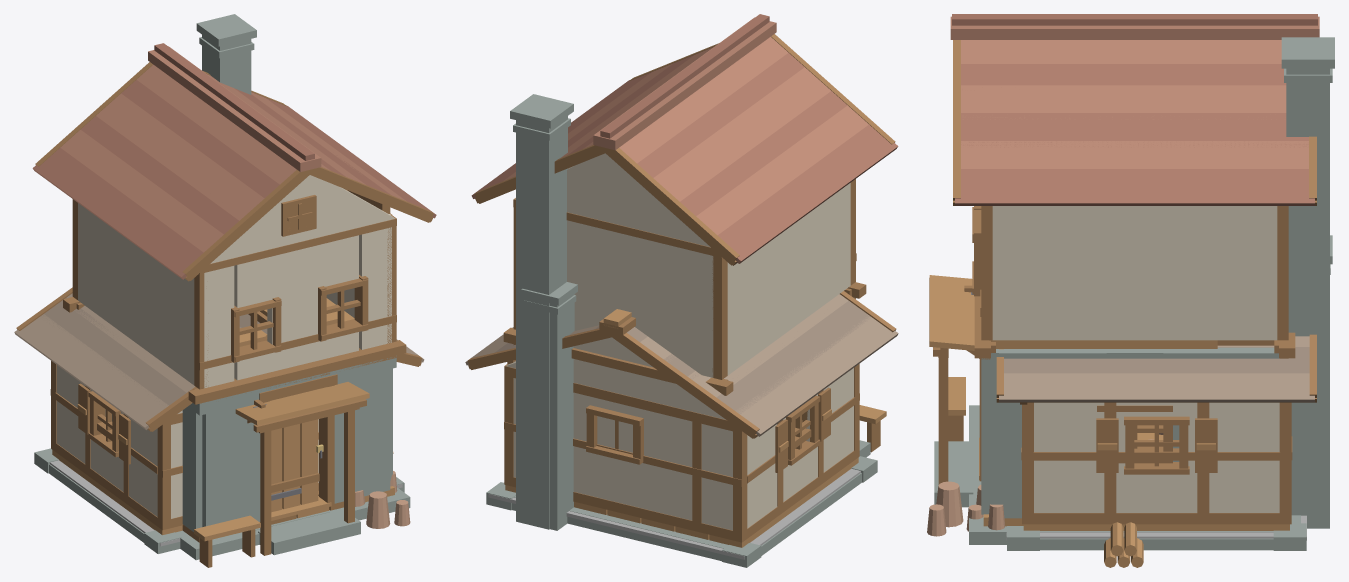
File: house-upgrades.glb
3 views of the same model, side by side, from view 1: azimuth 30°, elevation 25°; view 2: azimuth 150°, elevation 25°; view 3: azimuth 270°, elevation 25° (orthographic). The views are drawn at different scales.
Visible parts, largest first — view 1: HU_TEMP_townhouse_complete_body, HU_TEMP_townhouse_complete_roof, HU_TEMP_cottage_complete_body, HU_TEMP_cottage_complete_roof, HU_TEMP_townhouse_complete_frame, HU_TEMP_cottage_complete_frame, HU_TEMP_townhouse_complete_foundation, HU_TEMP_cottage_complete_foundation, HU_TEMP_townhouse_complete_body_door; view 2: HU_TEMP_townhouse_complete_roof, HU_TEMP_townhouse_complete_body, HU_TEMP_cottage_complete_roof, HU_TEMP_cottage_complete_body, HU_TEMP_cottage_complete_foundation, HU_TEMP_cottage_complete_frame, HU_TEMP_townhouse_complete_frame, HU_TEMP_townhouse_complete_foundation; view 3: HU_TEMP_townhouse_complete_roof, HU_TEMP_townhouse_complete_body, HU_TEMP_cottage_complete_body, HU_TEMP_cottage_complete_roof, HU_TEMP_cottage_complete_frame, HU_TEMP_cottage_complete_foundation, HU_TEMP_townhouse_complete_frame, HU_TEMP_townhouse_complete_foundation.
Part boxes in pixels (x1,y1,x2,y2): HU_TEMP_townhouse_complete_body: [78, 190, 410, 531]; HU_TEMP_townhouse_complete_roof: [32, 14, 436, 281]; HU_TEMP_cottage_complete_body: [51, 365, 397, 567]; HU_TEMP_cottage_complete_roof: [14, 287, 424, 431]; HU_TEMP_townhouse_complete_frame: [63, 189, 406, 404]; HU_TEMP_cottage_complete_frame: [50, 361, 359, 555]; HU_TEMP_townhouse_complete_foundation: [175, 486, 410, 560]; HU_TEMP_cottage_complete_foundation: [34, 448, 404, 553]; HU_TEMP_townhouse_complete_body_door: [271, 419, 323, 512]; HU_TEMP_townhouse_complete_roof: [471, 14, 898, 529]; HU_TEMP_townhouse_complete_body: [567, 183, 855, 464]; HU_TEMP_cottage_complete_roof: [465, 282, 898, 530]; HU_TEMP_cottage_complete_body: [504, 360, 886, 542]; HU_TEMP_cottage_complete_foundation: [486, 456, 877, 567]; HU_TEMP_cottage_complete_frame: [504, 364, 859, 532]; HU_TEMP_townhouse_complete_frame: [503, 168, 866, 395]; HU_TEMP_townhouse_complete_foundation: [514, 440, 870, 548]; HU_TEMP_townhouse_complete_roof: [950, 14, 1334, 528]; HU_TEMP_townhouse_complete_body: [927, 206, 1279, 536]; HU_TEMP_cottage_complete_body: [929, 275, 1291, 567]; HU_TEMP_cottage_complete_roof: [996, 235, 1332, 404]; HU_TEMP_cottage_complete_frame: [938, 348, 1292, 513]; HU_TEMP_cottage_complete_foundation: [980, 481, 1306, 550]; HU_TEMP_townhouse_complete_frame: [974, 206, 1295, 359]; HU_TEMP_townhouse_complete_foundation: [934, 405, 1300, 544].
Bounding box in the file's own units: 4.7 × 5.99 × 4.7.
